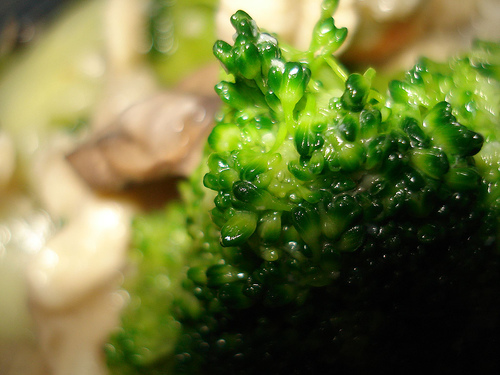broccoli: (159, 0, 499, 374)
